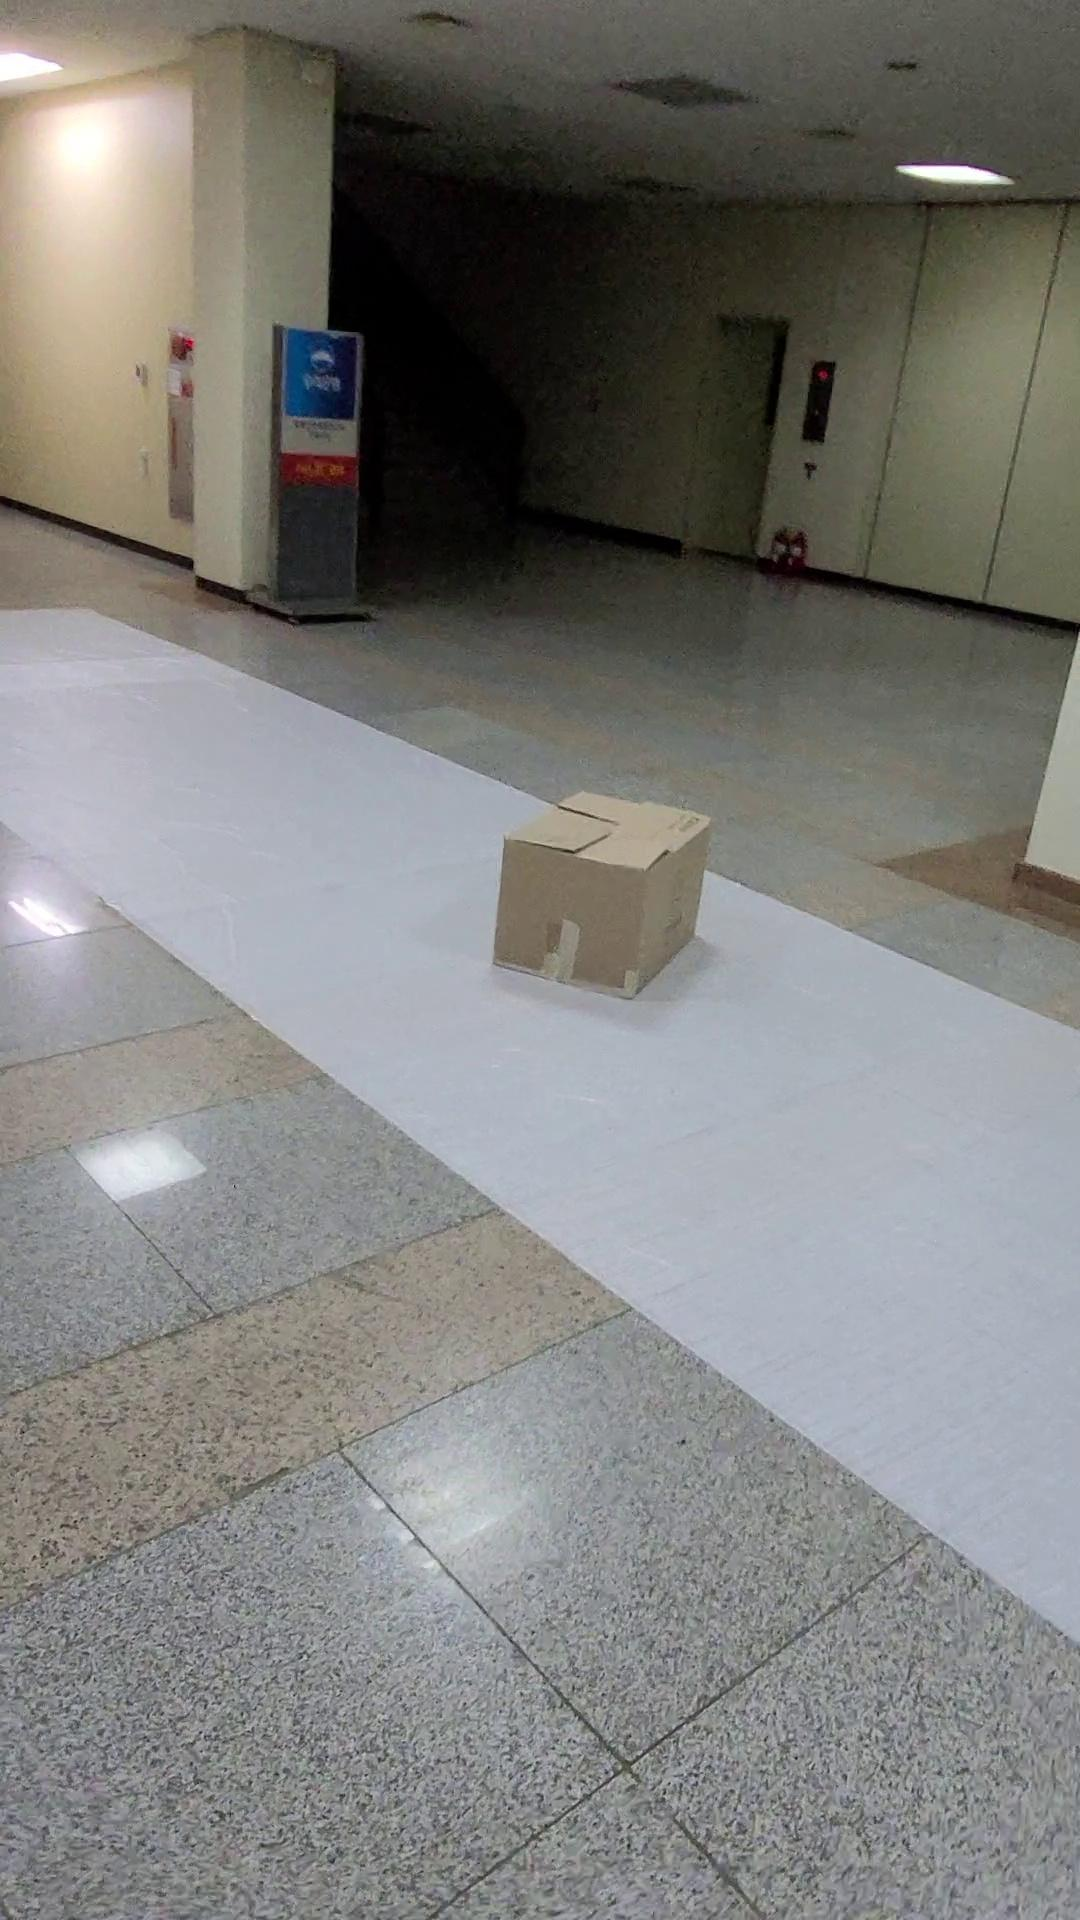Box: (443, 781, 757, 1011)
